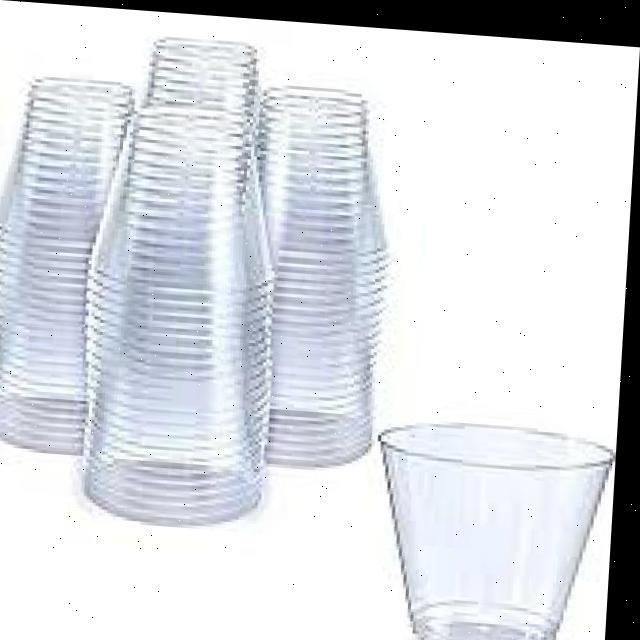cup: (363, 395, 623, 640)
